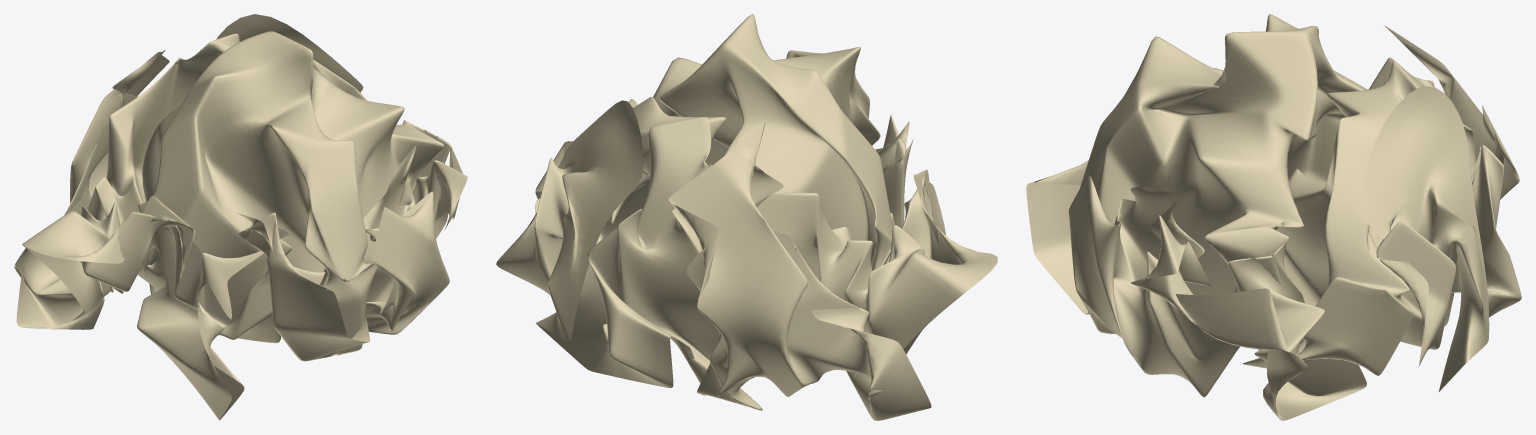
File: kartka.fbx
The picture shows the model from 3 angles, left to right: view 1: azimuth 30°, elevation 25°; view 2: azimuth 150°, elevation 25°; view 3: azimuth 270°, elevation 25°; orthographic projection. The views are drawn at different scales.
Parts seen in each view (by area): view 1: Plane; view 2: Plane; view 3: Plane.
Boxes of the visible parts, x1=… form: Plane: x1=14, y1=14, x2=467, y2=420; Plane: x1=496, y1=14, x2=997, y2=420; Plane: x1=1026, y1=14, x2=1521, y2=420.
Size of the model in its own units: 76.05 by 56.53 by 66.16.
